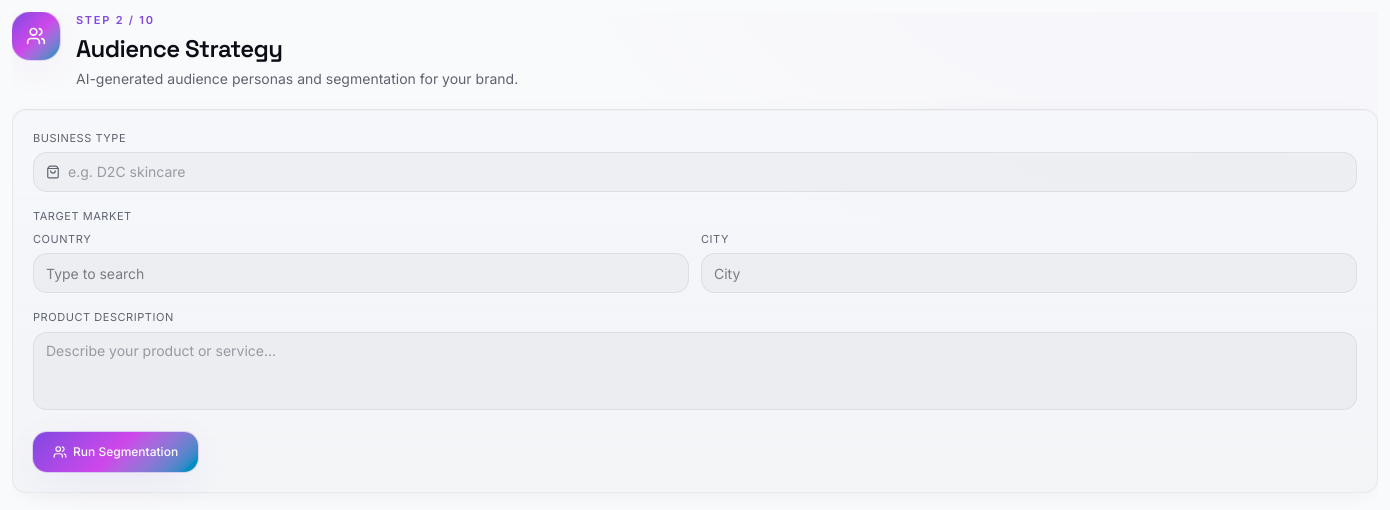
Scenario: Step2AudienceStrategy — persona targeting (MOM) › renders persona chips from the segmentation results
Click the button "Run Segmentation": (116, 452) [33,432,198,472]
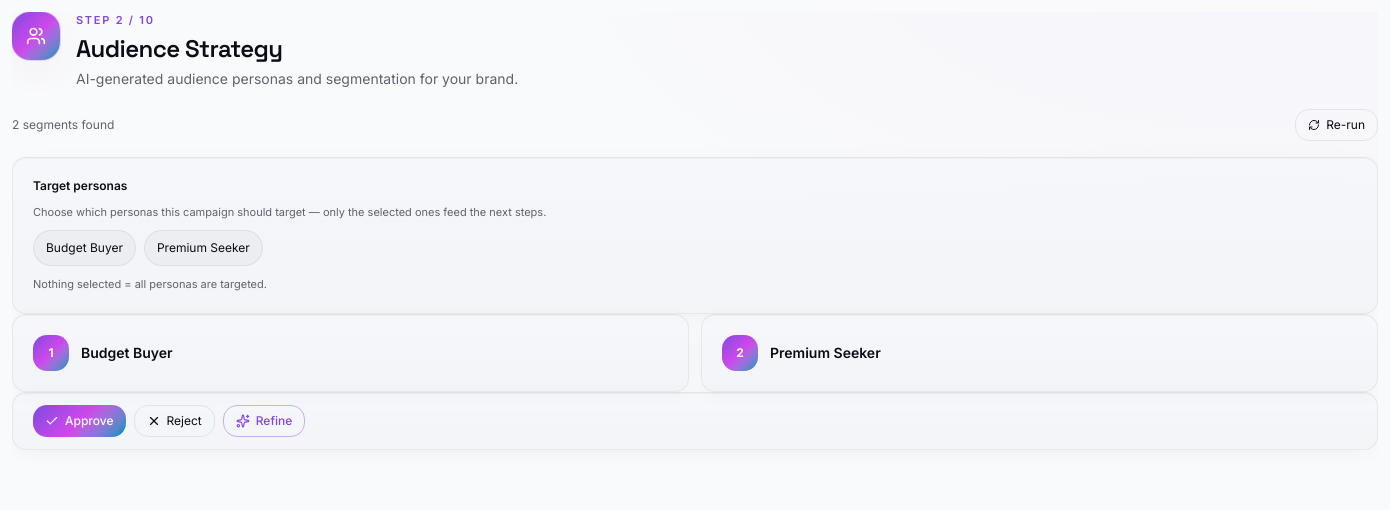
Check: the elements with test id "persona-chip" read "Budget Buyer", "Premium Seeker", in this order, box [33,230,136,266]; [144,230,263,266]
Check: the text "Nothing selected = all personas are targeted." is shown, box [33,277,267,291]
